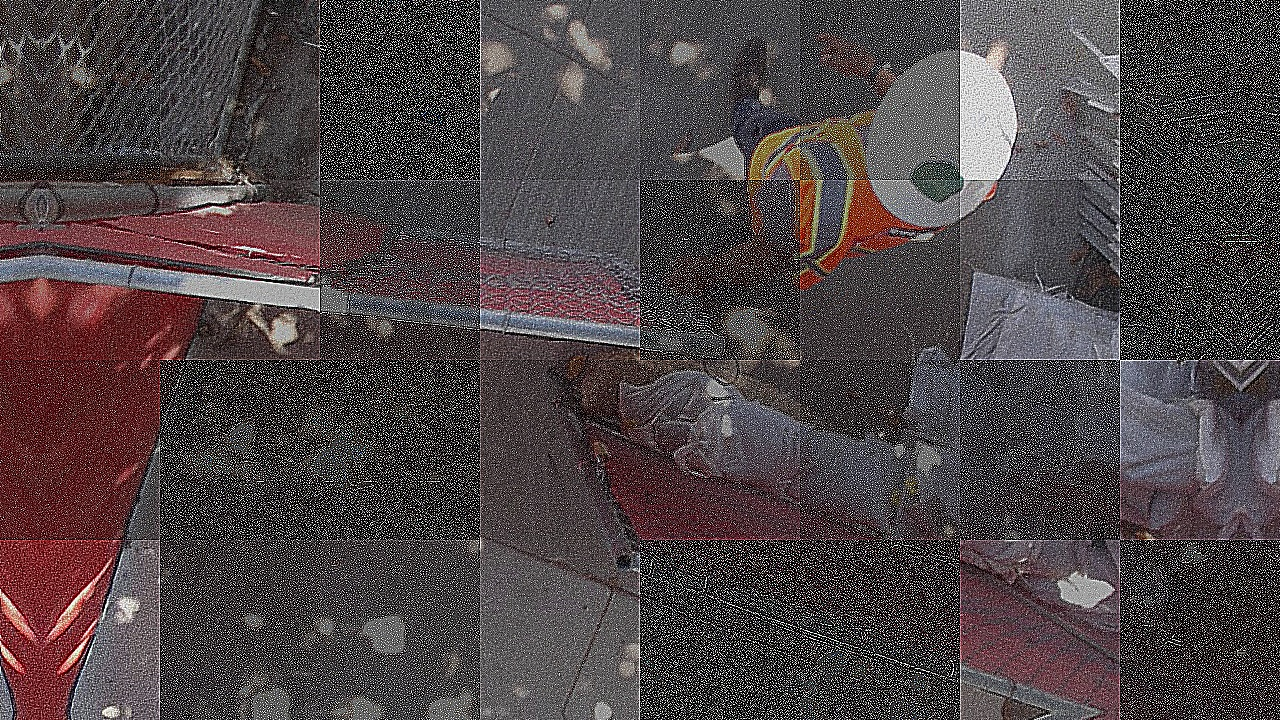green: (906, 156, 963, 205)
hardhat: (864, 48, 1016, 228)
person: (673, 34, 1015, 294)
safetyvest: (748, 110, 943, 292)
